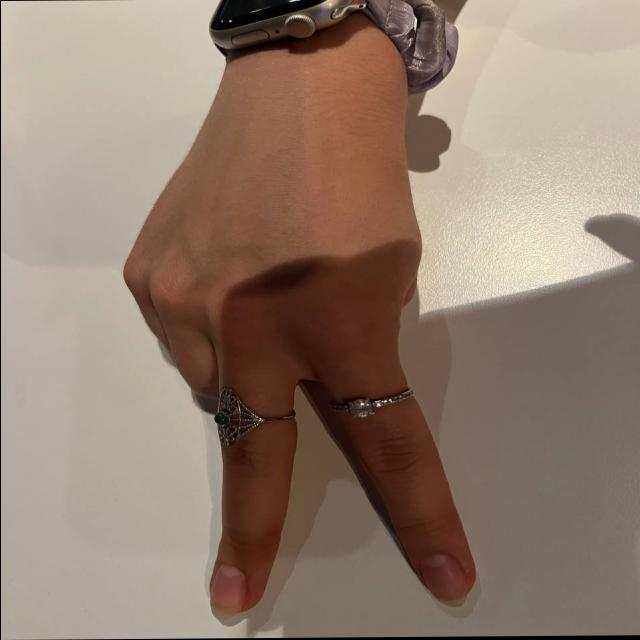l: (113, 164, 487, 626)
